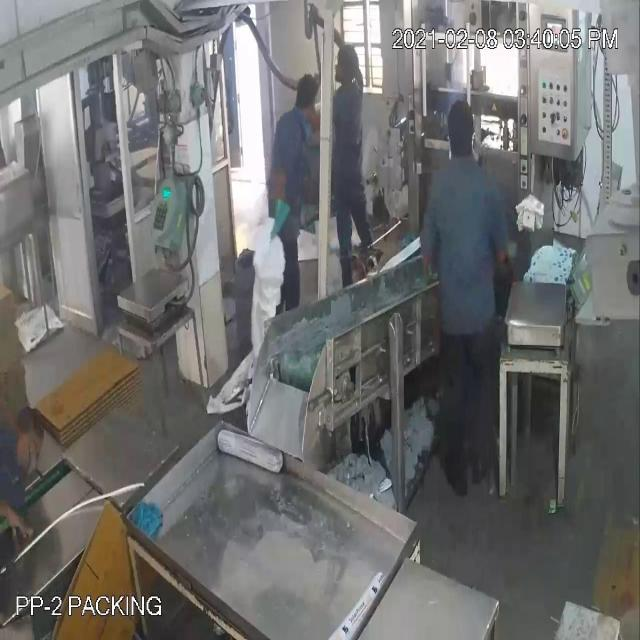No_Gloves: (22, 96, 278, 524)
